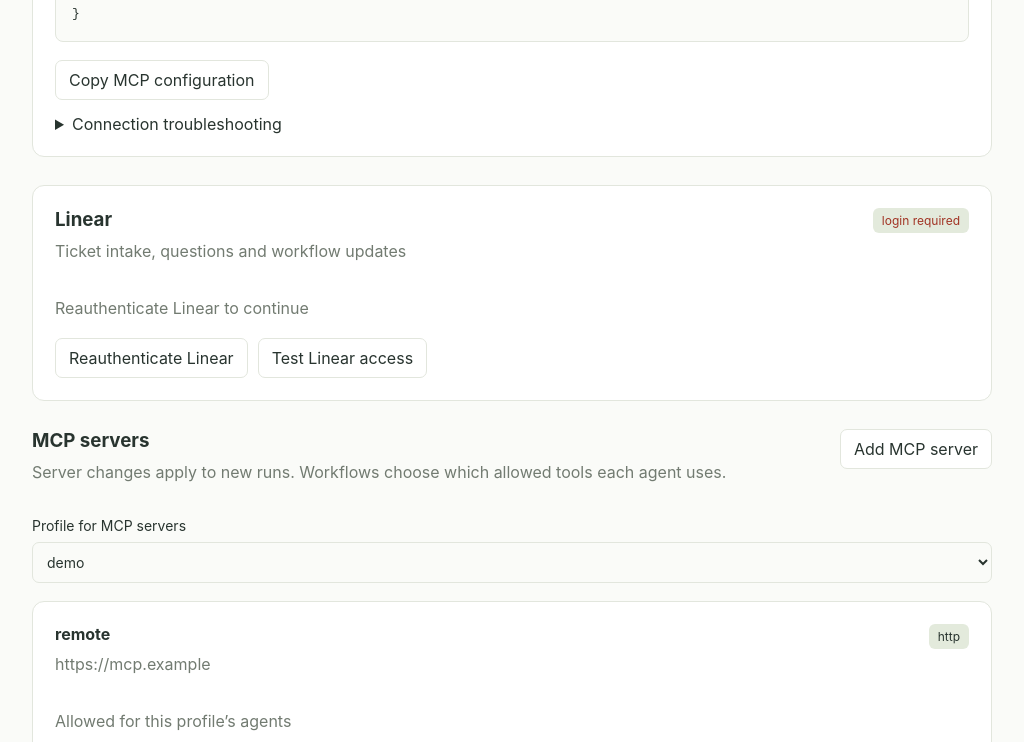
Test: checks Linear and lists the server’s tools without invoking them
(page scrolled)
Expected: the dropdown labelled "Profile for MCP servers" is shown, [32,542,992,583]
Click the button "Test Linear access" at (342, 358), box [258,338,427,378]
(page scrolled)
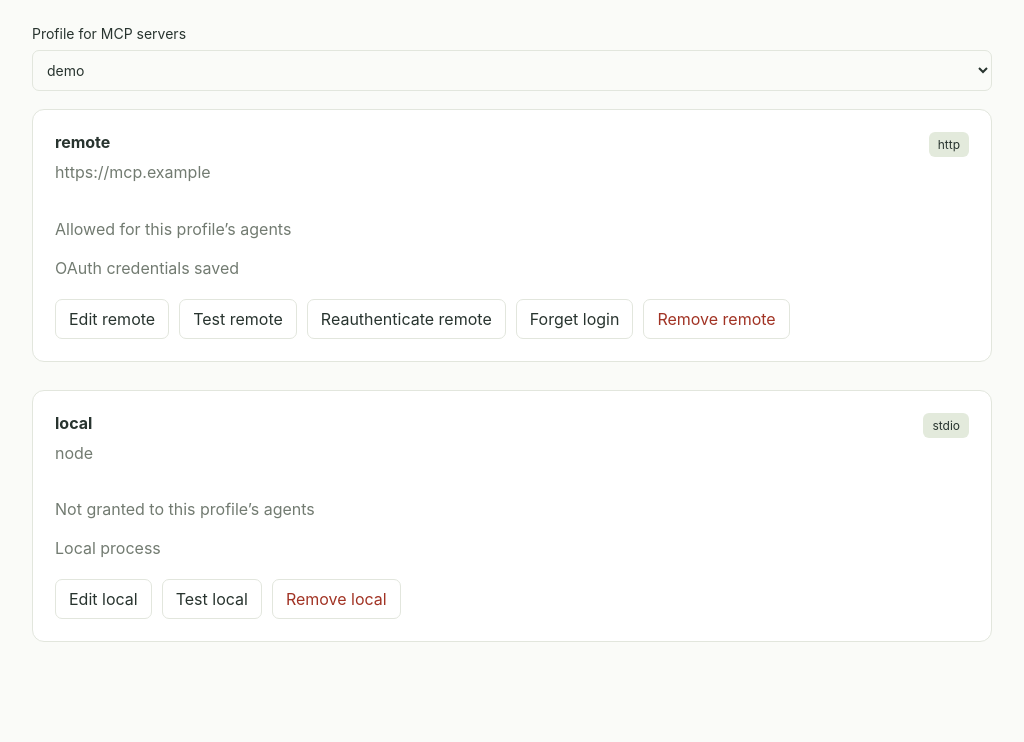
Click the button "Test local" at (212, 599), box [162,579,262,619]
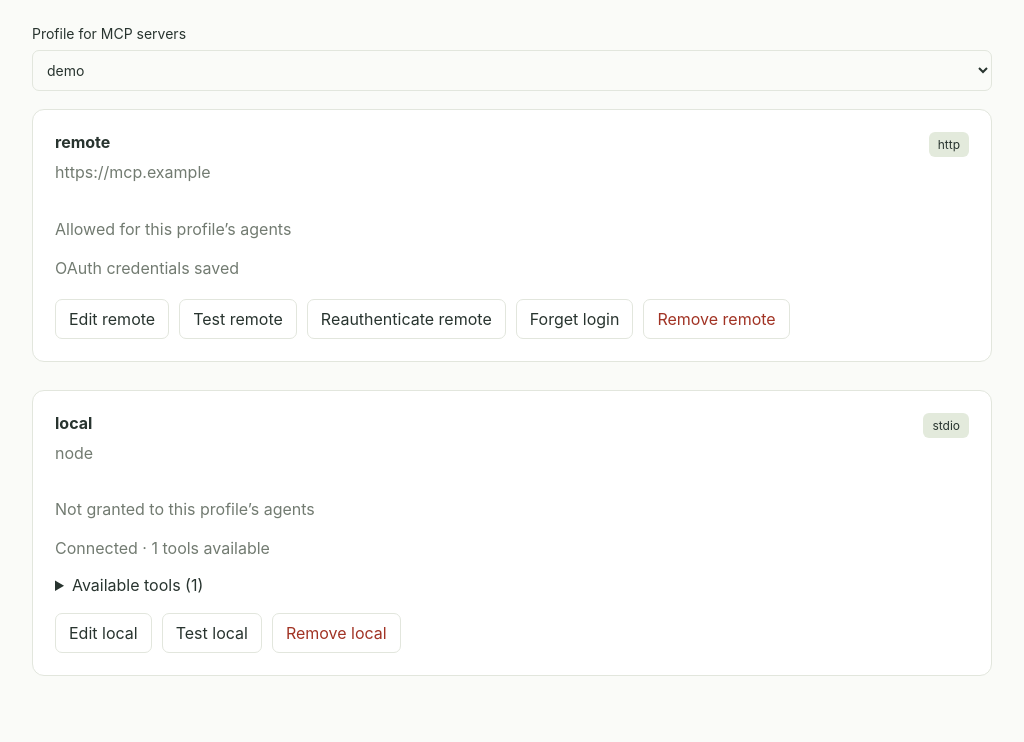
Expected: the text "Connected · 1 tools available" is shown, [55,538,270,558]
Click the heading "Available tools (1)" at (138, 585), box [72,575,203,595]
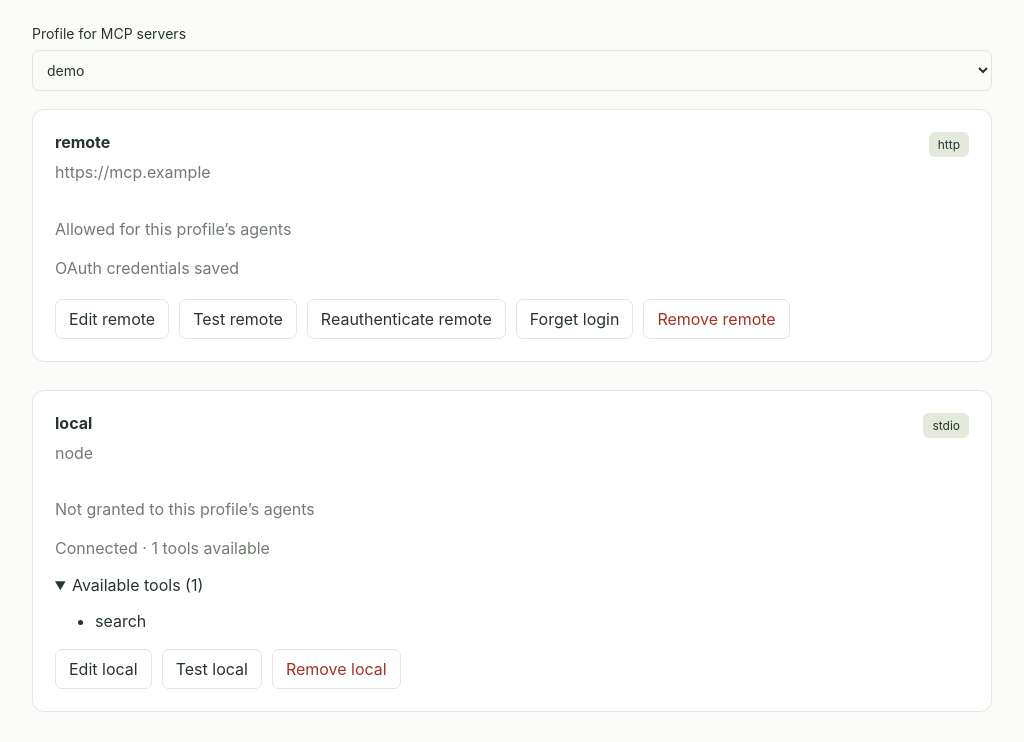
Expected: the list item "search" is shown, [95,611,146,631]
